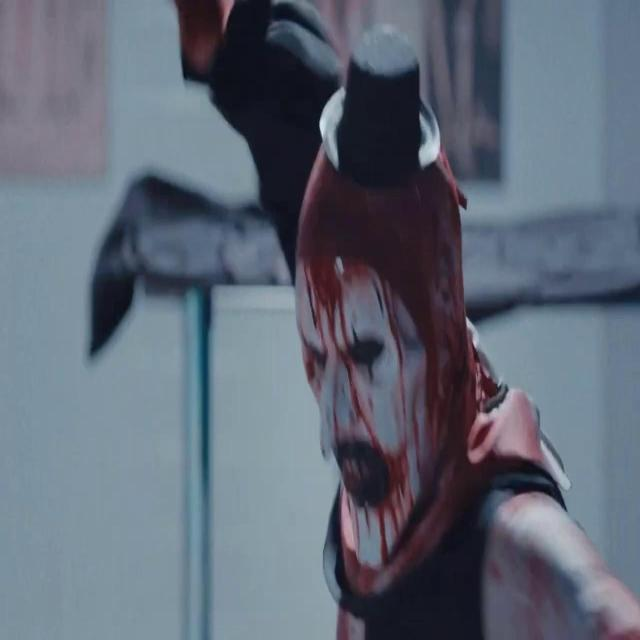flood: (289, 131, 480, 578)
